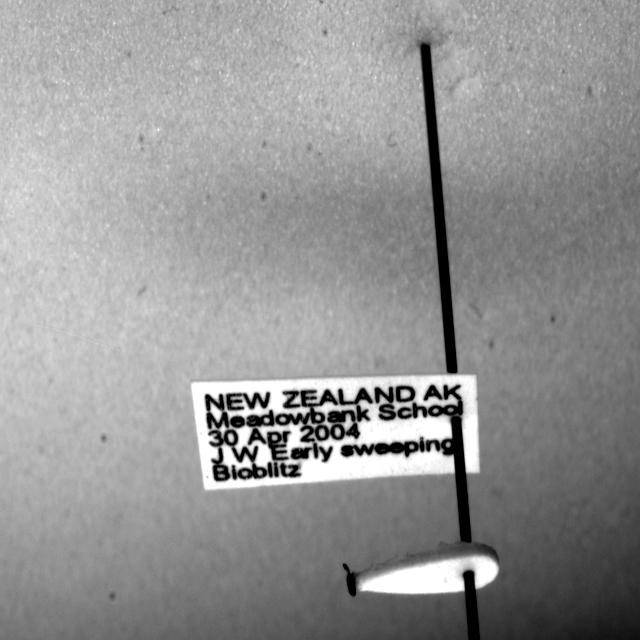typed_label: (191, 373, 480, 489)
